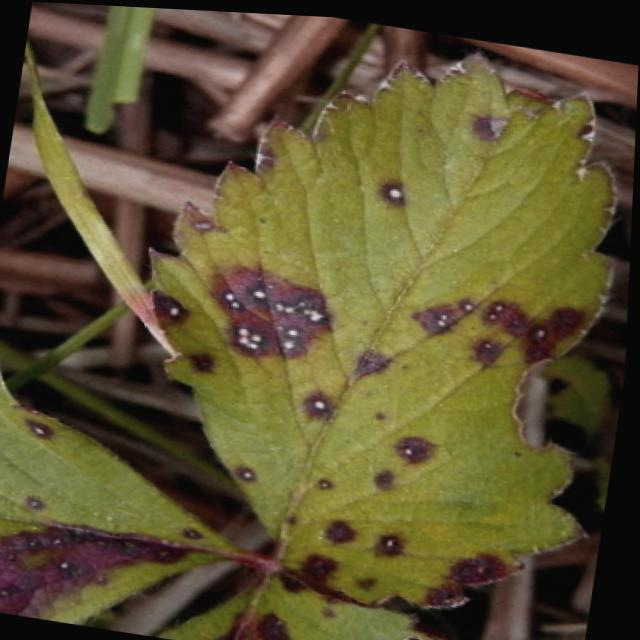Leaf Spot: (148, 42, 622, 605), (0, 343, 247, 623), (156, 568, 460, 640)
